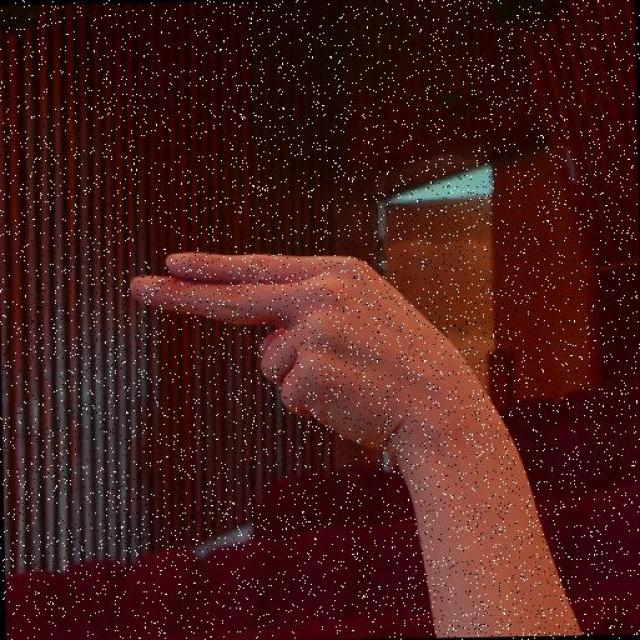H: (126, 234, 499, 448)
